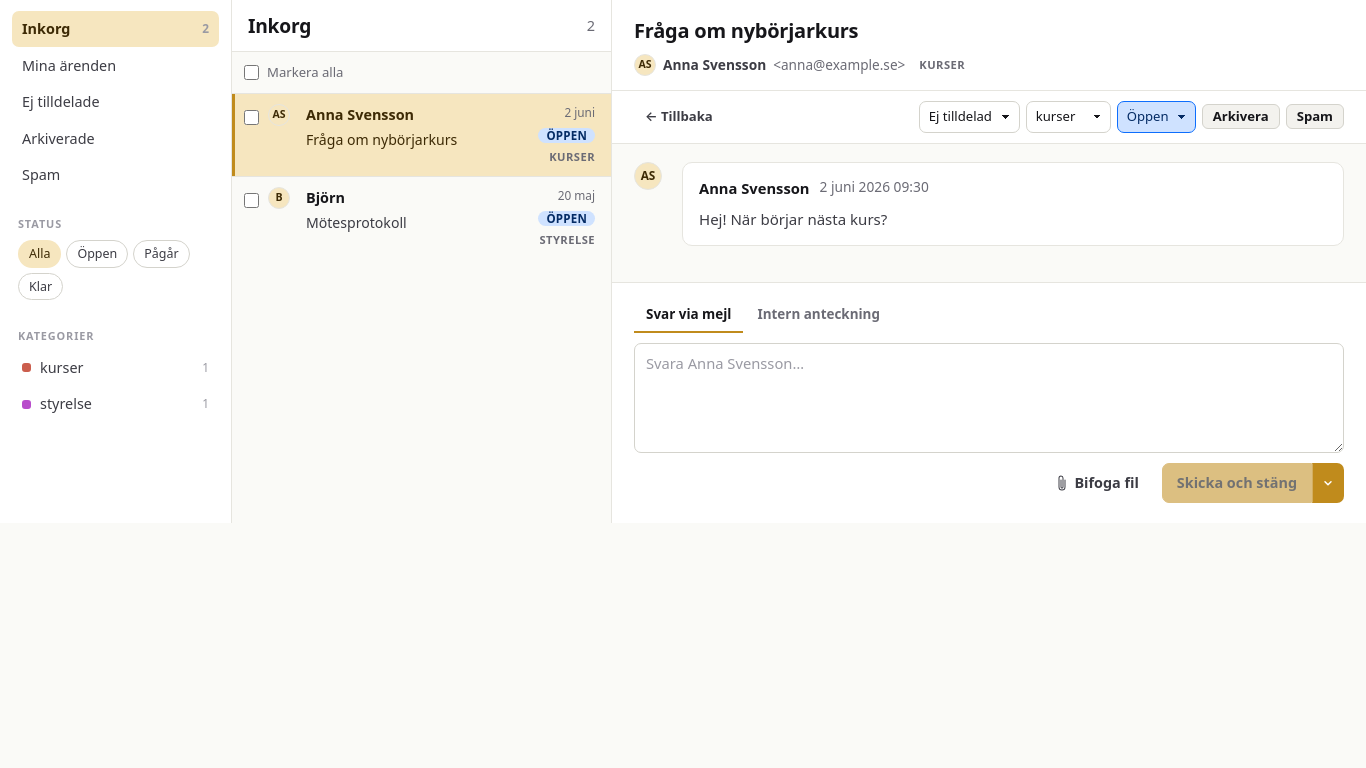
Test: InboxView (integration with store + fetch shim) › adding an internal note appends it to the thread
This screenshot has width=1366, height=768.
Click the button with test id "tab-note" at [819, 315], box top-left (746, 297), bottom-right (892, 333)
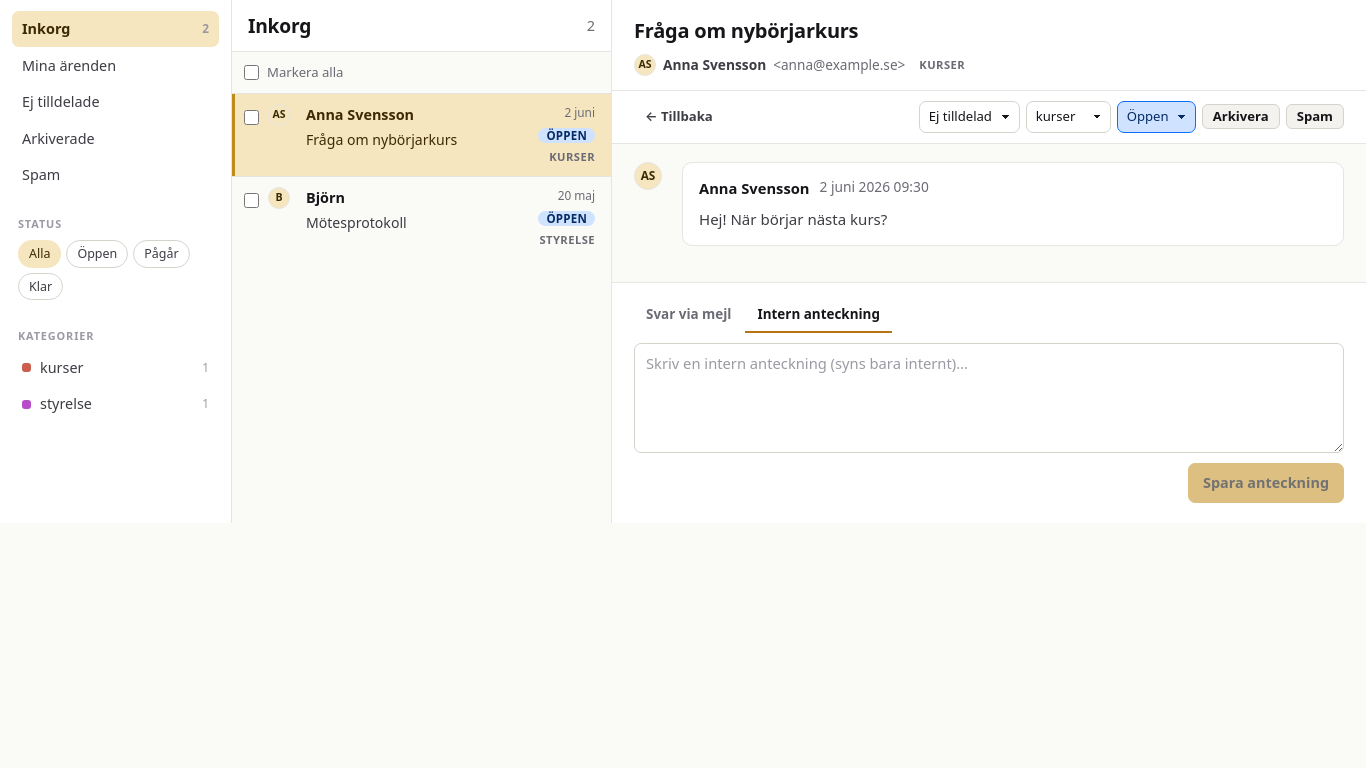
Type "Ring upp Anna" into the text box with test id "reply-body" at [989, 398], box top-left (634, 343), bottom-right (1344, 453)
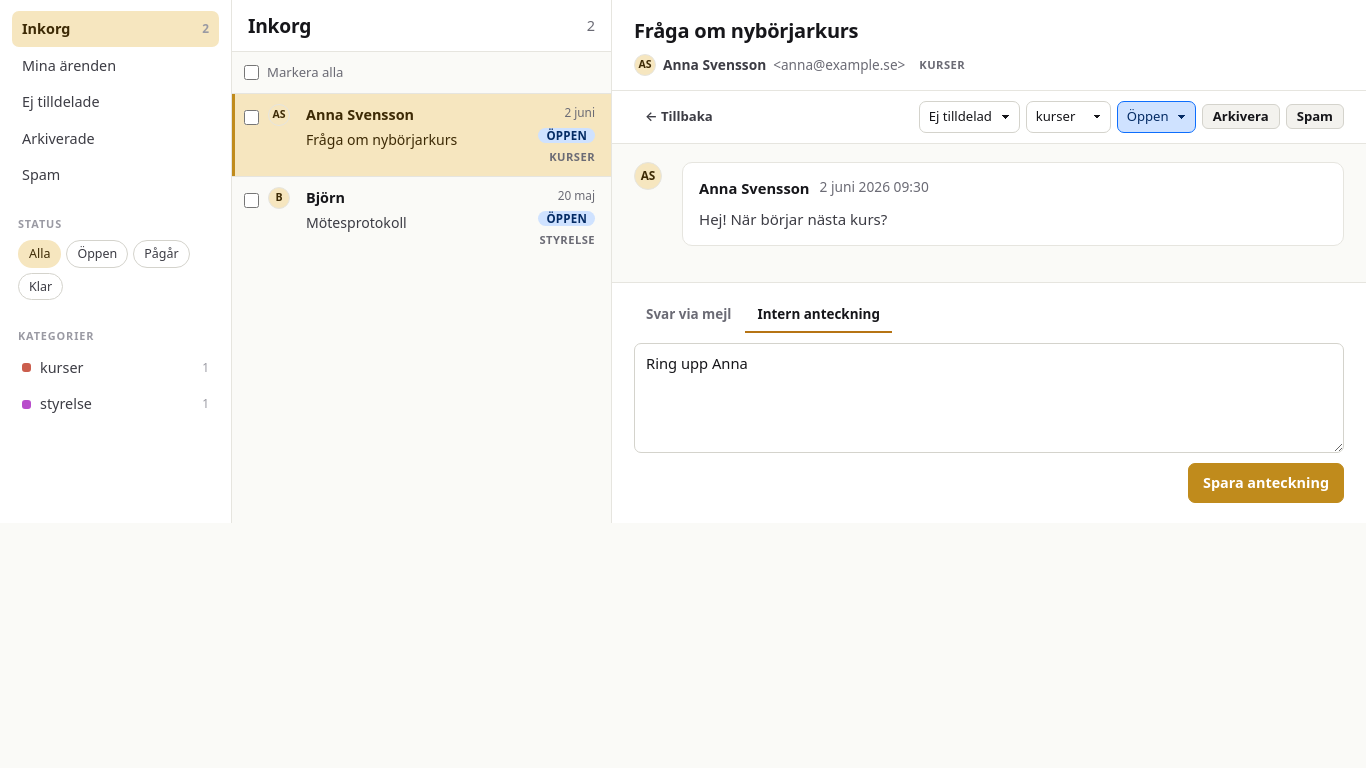
Click the button with test id "save-note" at [1266, 483], box top-left (1188, 463), bottom-right (1344, 503)
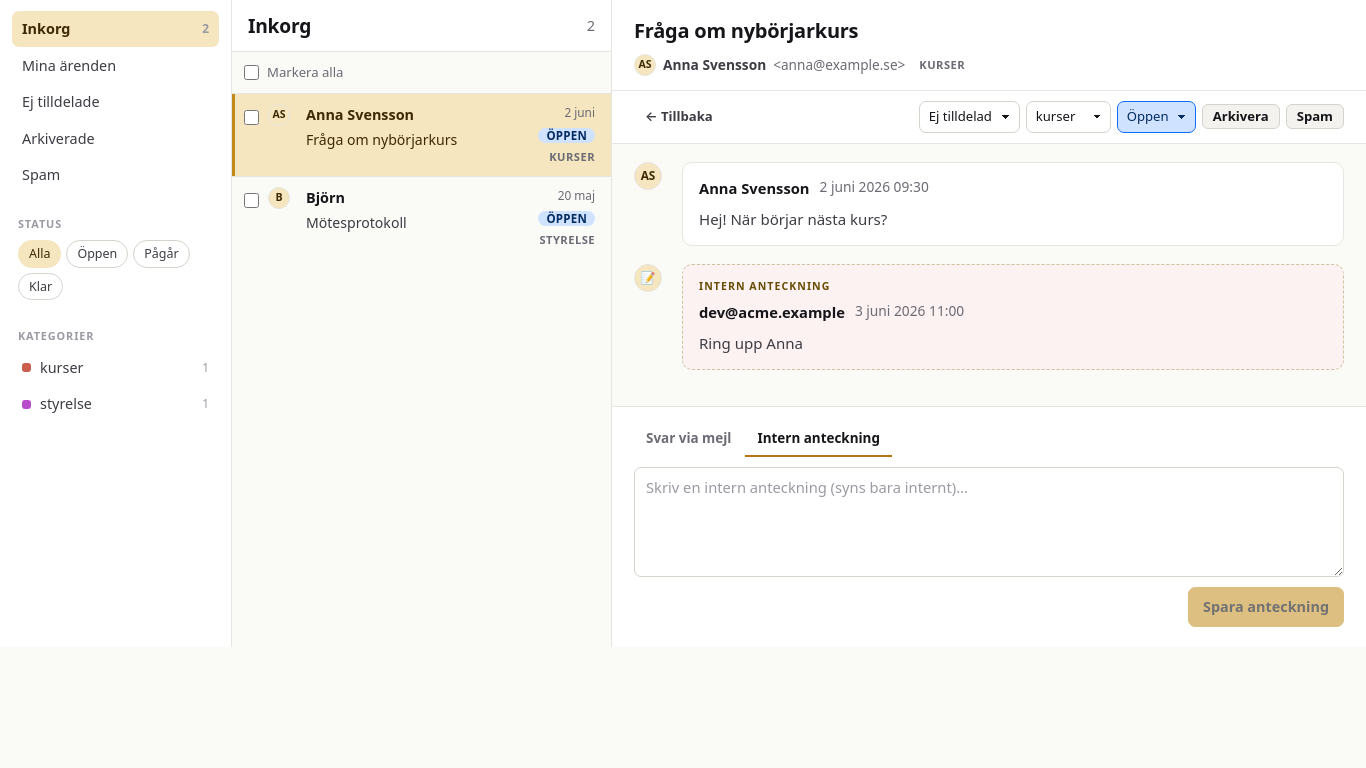
Expected: the element with test id "note" shows "Ring upp Anna", top-left (699, 333), bottom-right (803, 353)
